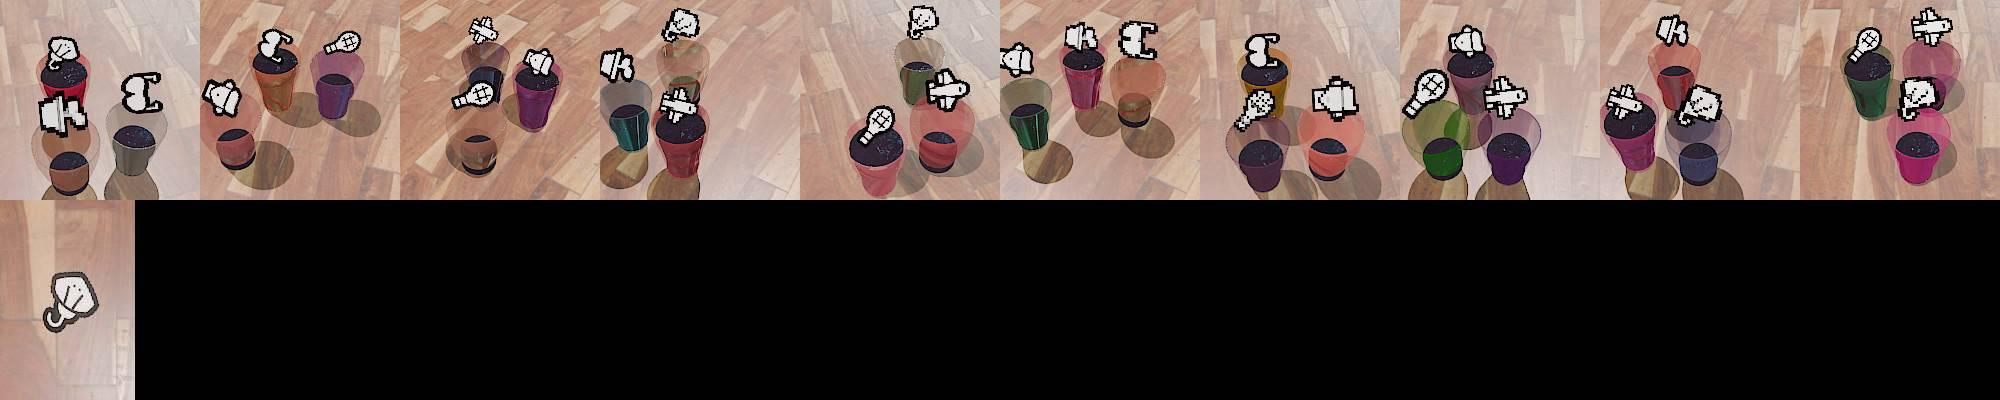icon: (41, 270, 102, 336), (1404, 68, 1450, 119), (1482, 73, 1530, 119), (37, 91, 86, 136), (1673, 83, 1723, 127), (926, 65, 972, 112), (1313, 75, 1361, 119), (119, 71, 162, 115), (1898, 77, 1940, 121), (1604, 82, 1649, 122), (1233, 88, 1275, 130), (1910, 7, 1953, 47), (659, 86, 700, 127), (201, 77, 242, 118), (856, 103, 897, 144), (1118, 20, 1159, 60), (661, 7, 702, 43), (1846, 27, 1883, 66), (256, 28, 296, 64), (451, 77, 496, 109), (1447, 24, 1488, 58), (599, 47, 636, 83), (46, 35, 81, 71), (999, 42, 1034, 78), (1245, 33, 1279, 69), (906, 4, 938, 41), (1064, 19, 1098, 53), (1656, 14, 1690, 48), (522, 47, 556, 77), (323, 30, 361, 55), (468, 16, 499, 45)
